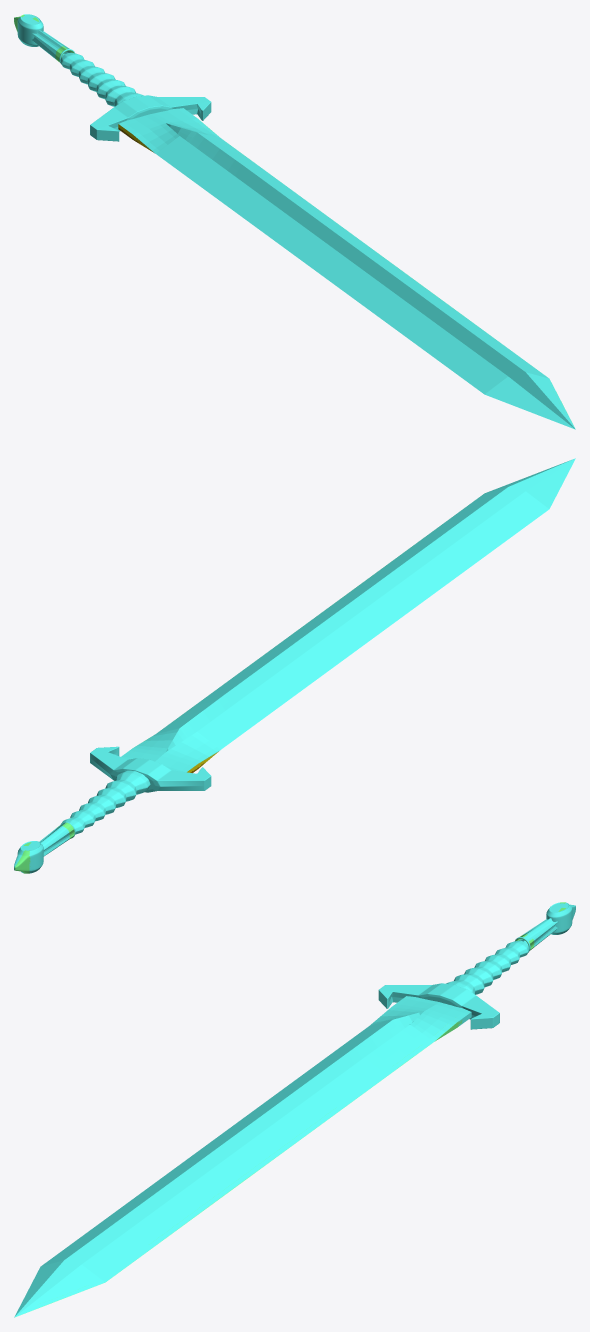
File: sword.obj
3 views of the same model, one above another, from view 1: azimuth 30°, elevation 25°; view 2: azimuth 150°, elevation 25°; view 3: azimuth 330°, elevation 25° (orthographic).
Visible parts, largest first — view 1: Blade_Cube, Cylinder_Cylinder.001, Cylinder.001_Cylinder, Cylinder.003, Cylinder.002; view 2: Blade_Cube, Cylinder_Cylinder.001, Cylinder.001_Cylinder, Cylinder.003, Cylinder.002; view 3: Blade_Cube, Cylinder_Cylinder.001, Cylinder.001_Cylinder, Cylinder.003, Cylinder.002.
Part boxes in pixels (x1,y1,x2,y2): Blade_Cube: (118, 108, 575, 429); Cylinder_Cylinder.001: (90, 95, 211, 141); Cylinder.001_Cylinder: (60, 52, 143, 106); Cylinder.003: (14, 14, 43, 46); Cylinder.002: (32, 30, 72, 62); Blade_Cube: (121, 458, 575, 772); Cylinder_Cylinder.001: (90, 746, 211, 792); Cylinder.001_Cylinder: (62, 770, 150, 834); Cylinder.003: (14, 841, 43, 873); Cylinder.002: (39, 822, 74, 856); Blade_Cube: (14, 996, 471, 1317); Cylinder_Cylinder.001: (378, 983, 499, 1029); Cylinder.001_Cylinder: (446, 940, 529, 994); Cylinder.003: (546, 902, 575, 934); Cylinder.002: (517, 918, 557, 950).
Bounding box in the file's own units: 9.17 × 1.88 × 77.71.
